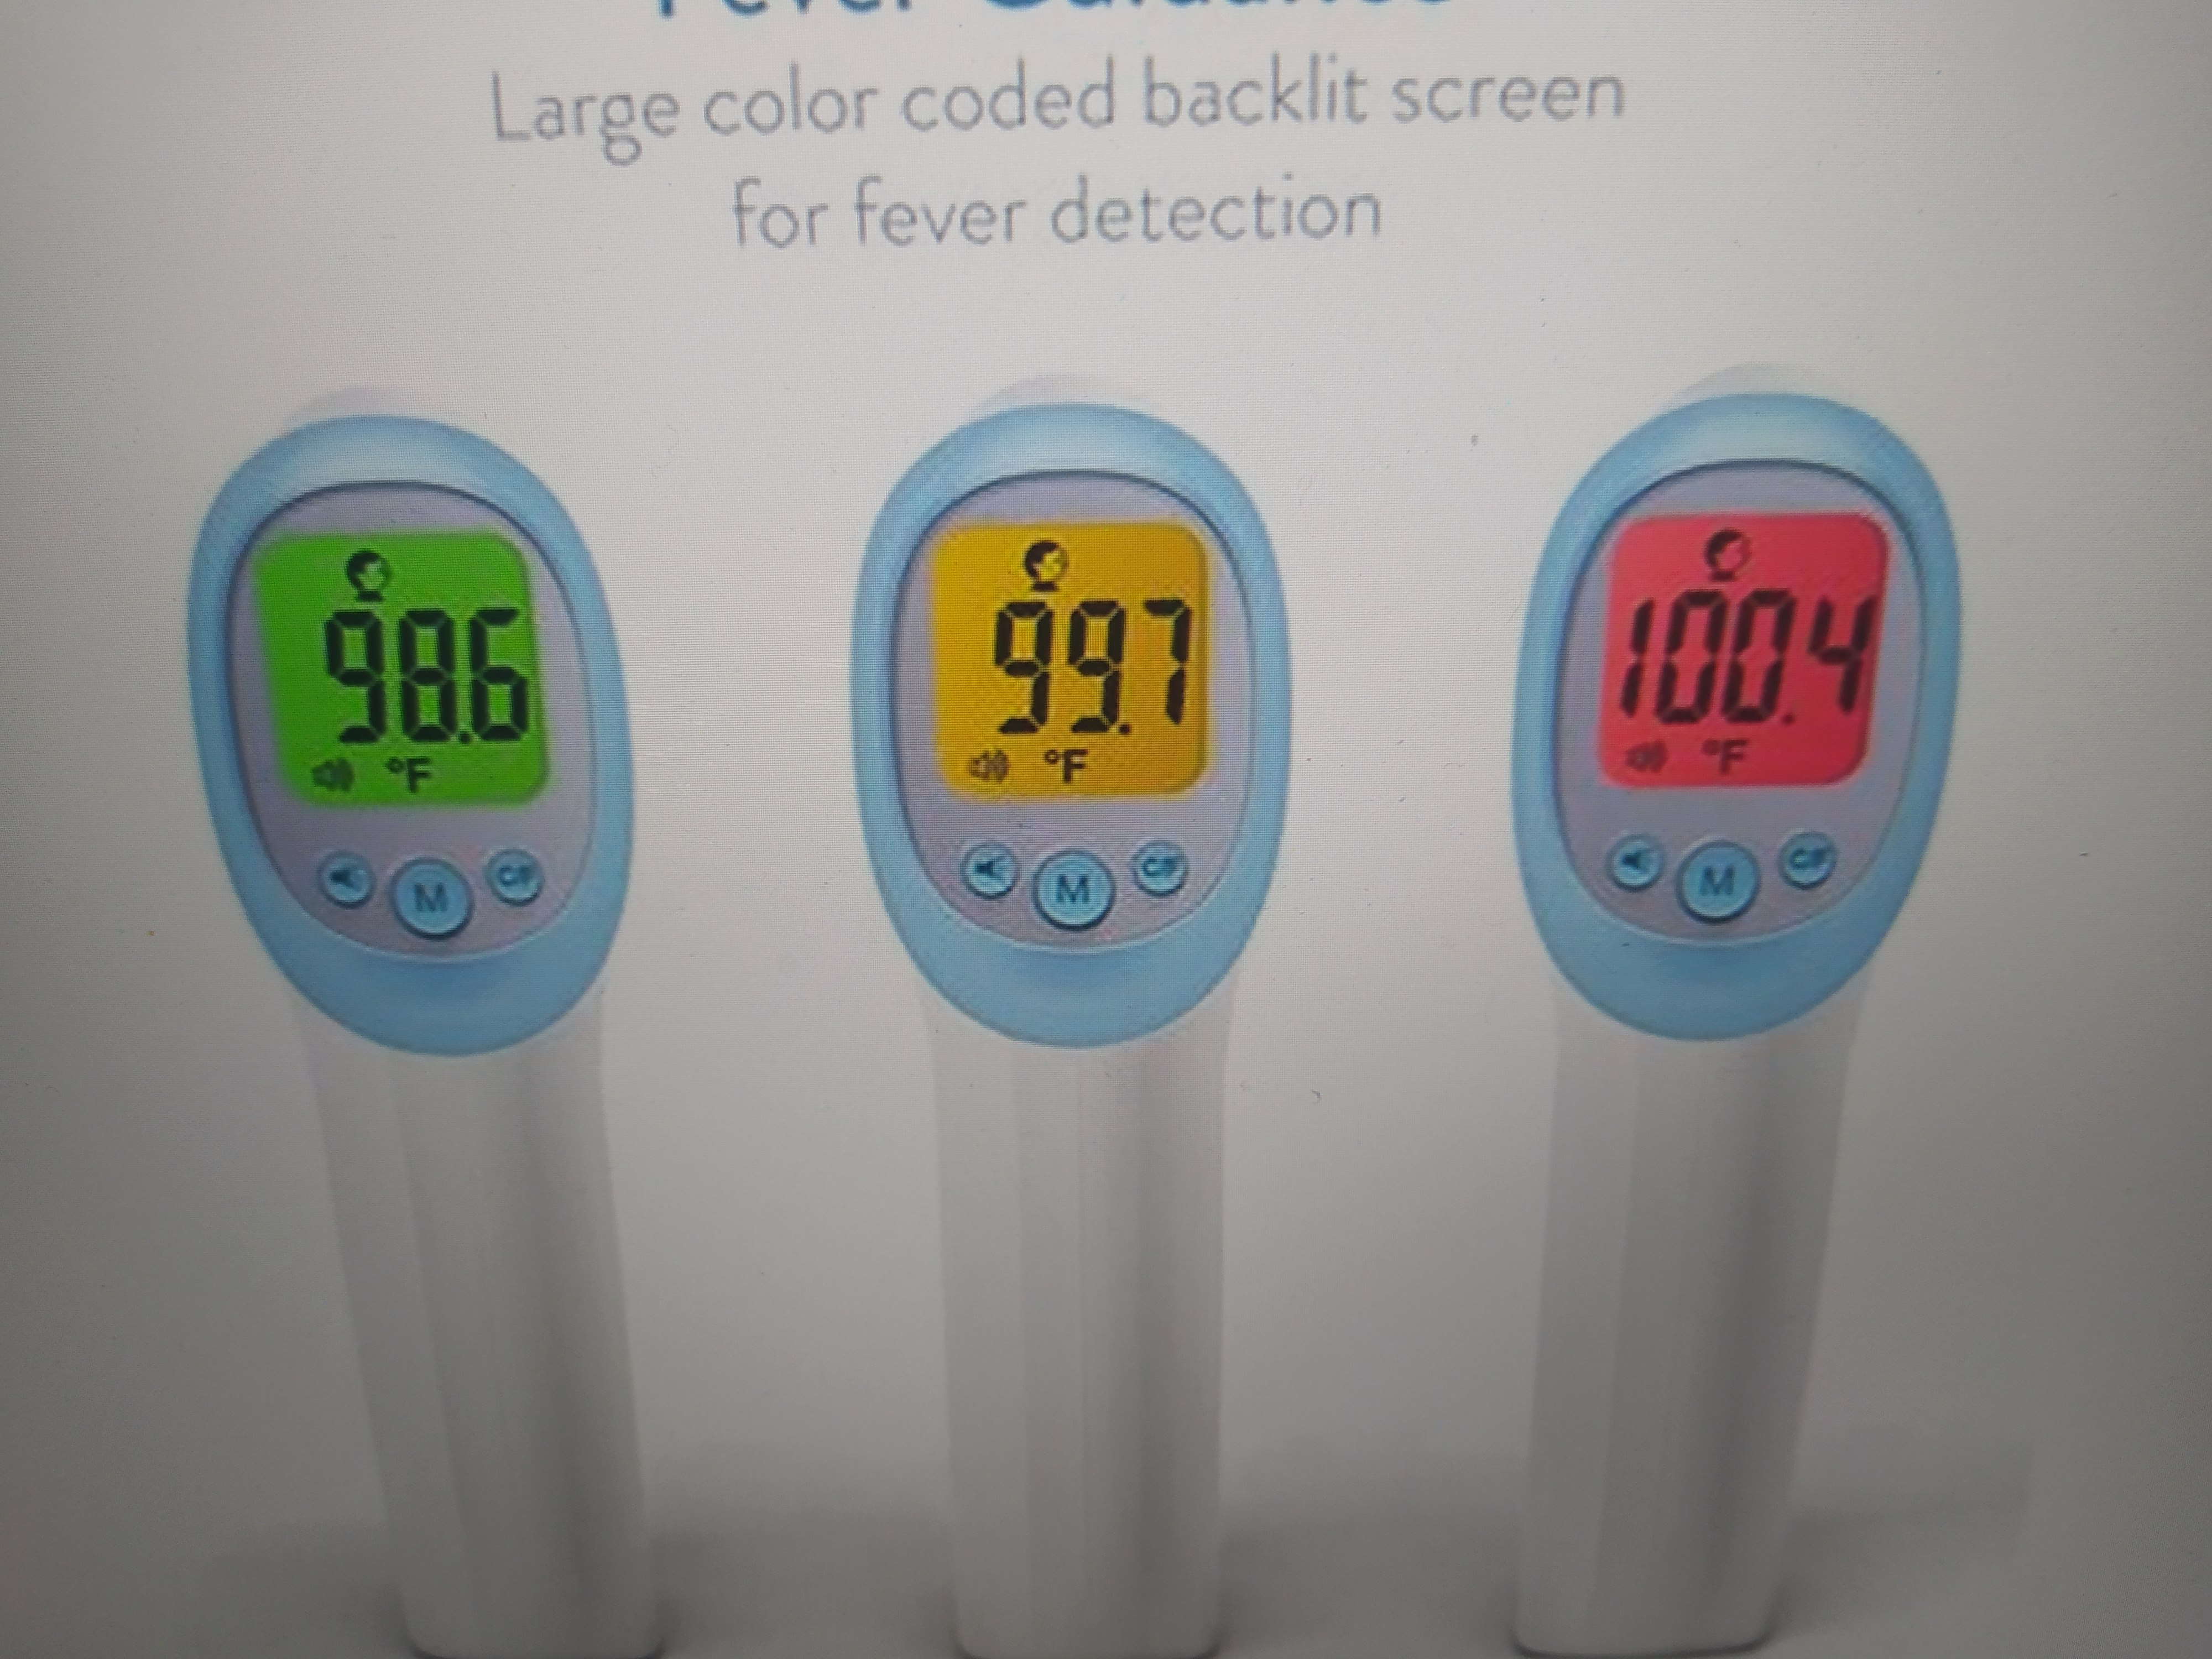.: (1780, 587, 1797, 727), (455, 606, 470, 744), (1120, 601, 1134, 734)
0: (1724, 587, 1796, 723), (1656, 591, 1728, 725)
1: (1622, 599, 1655, 720)
4: (1804, 596, 1878, 718)
6: (470, 606, 529, 742)
7: (1141, 598, 1193, 728)
8: (394, 610, 458, 744)
9: (320, 608, 387, 748), (995, 601, 1054, 735), (1068, 601, 1123, 735)
